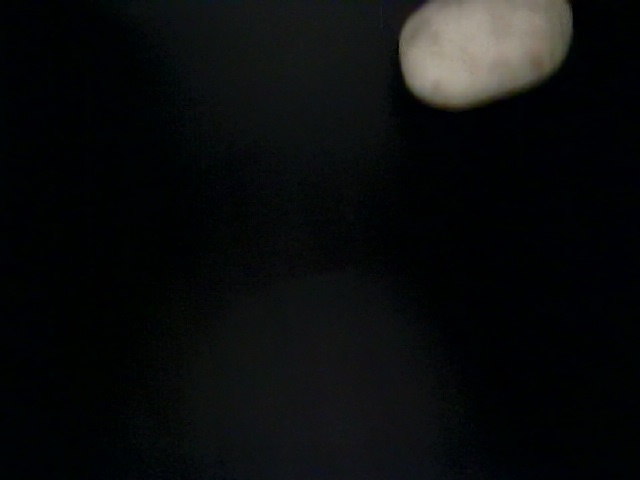KHSLJ: (166, 1, 472, 260)
